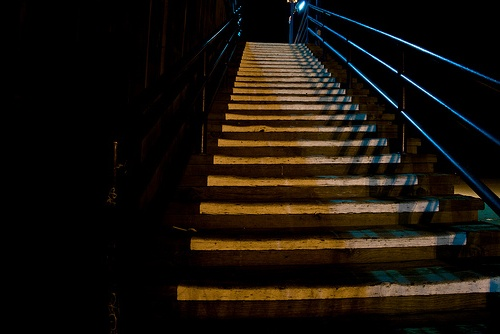stairs_up: (187, 37, 495, 308)
